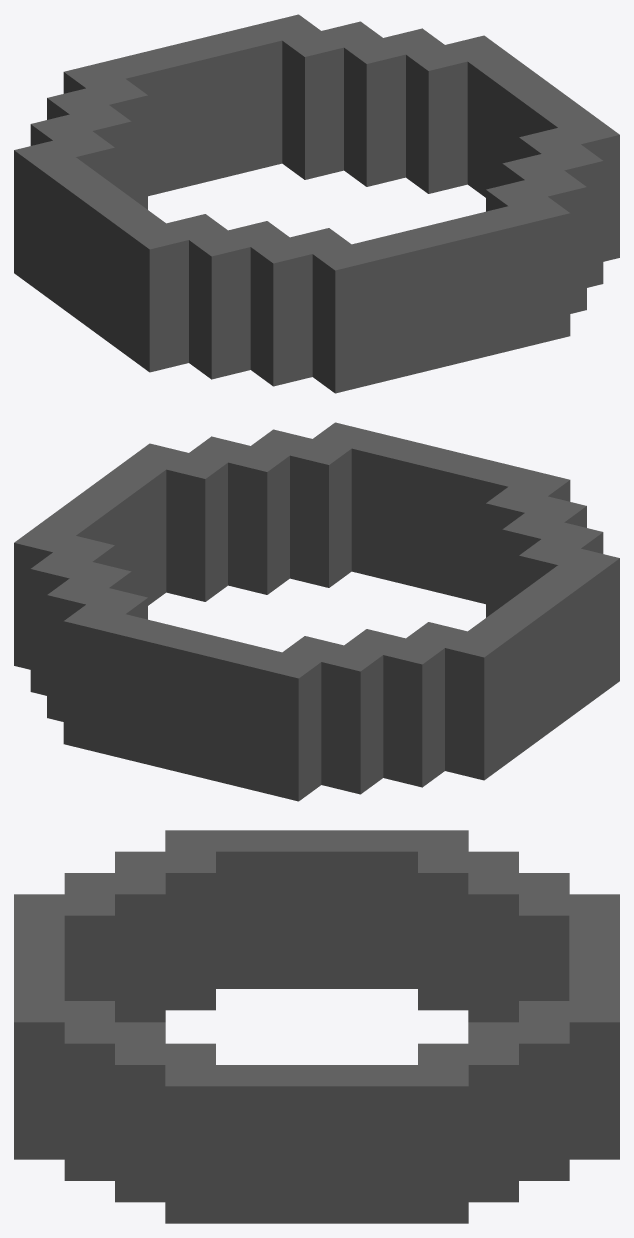
File: PushButton.vox-1.obj
The picture shows the model from 3 angles, top to bottom: view 1: azimuth 30°, elevation 25°; view 2: azimuth 150°, elevation 25°; view 3: azimuth 270°, elevation 25°; orthographic projection. The views are drawn at different scales.
Bounding box in the file's own units: 1.2 × 0.3 × 1.2.
1 material, 1 textured.
